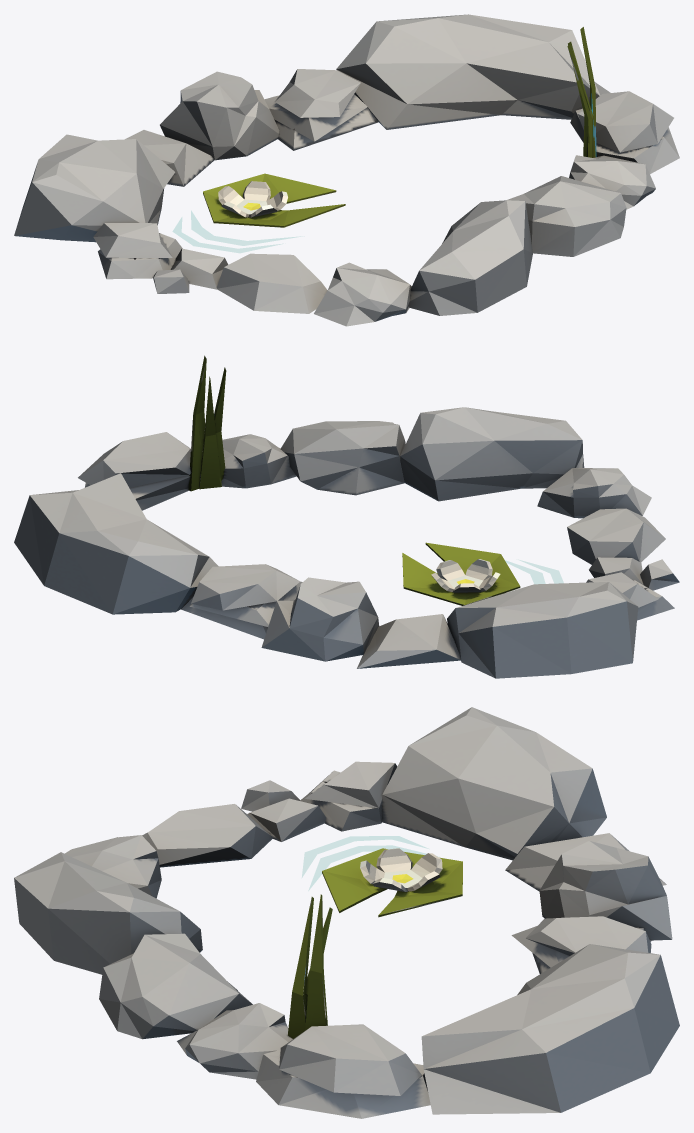
The model's file is pond_2_lev1.glb.
3 views of the same model, one above another, from view 1: azimuth 30°, elevation 25°; view 2: azimuth 150°, elevation 25°; view 3: azimuth 270°, elevation 25° (orthographic). The views are drawn at different scales.
Visible parts, largest first — view 1: pond_2_lev1; view 2: pond_2_lev1; view 3: pond_2_lev1.
Boxes of the visible parts, x1,y1,x2,y2 form: pond_2_lev1: (14,14,679,326); pond_2_lev1: (14,355,679,678); pond_2_lev1: (14,707,679,1118).
Size of the model in its own units: 0.9866 by 0.2155 by 0.7871.
Materials: 1 (1 with a texture image).
